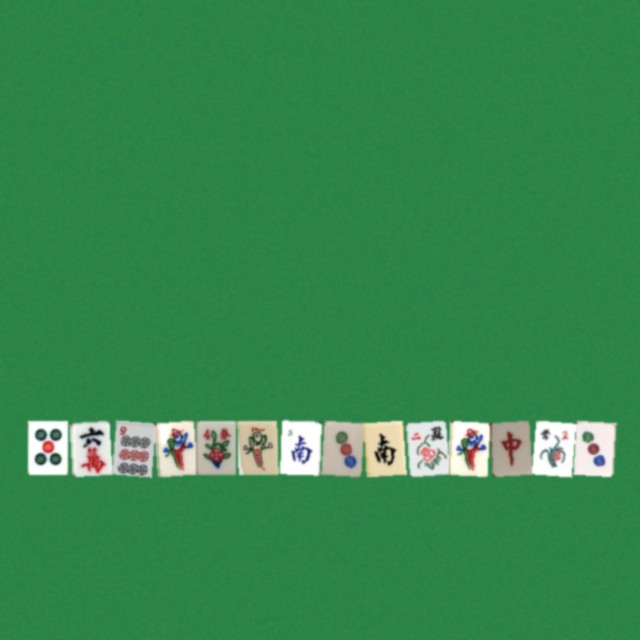tile: (27, 420, 67, 474), (69, 420, 109, 474), (111, 420, 151, 474), (153, 420, 193, 474), (195, 420, 235, 474), (237, 420, 277, 474), (279, 420, 319, 474), (321, 420, 361, 474), (363, 420, 403, 474), (405, 420, 445, 474), (447, 420, 487, 474), (489, 420, 529, 474), (531, 420, 571, 474), (573, 420, 613, 474)
